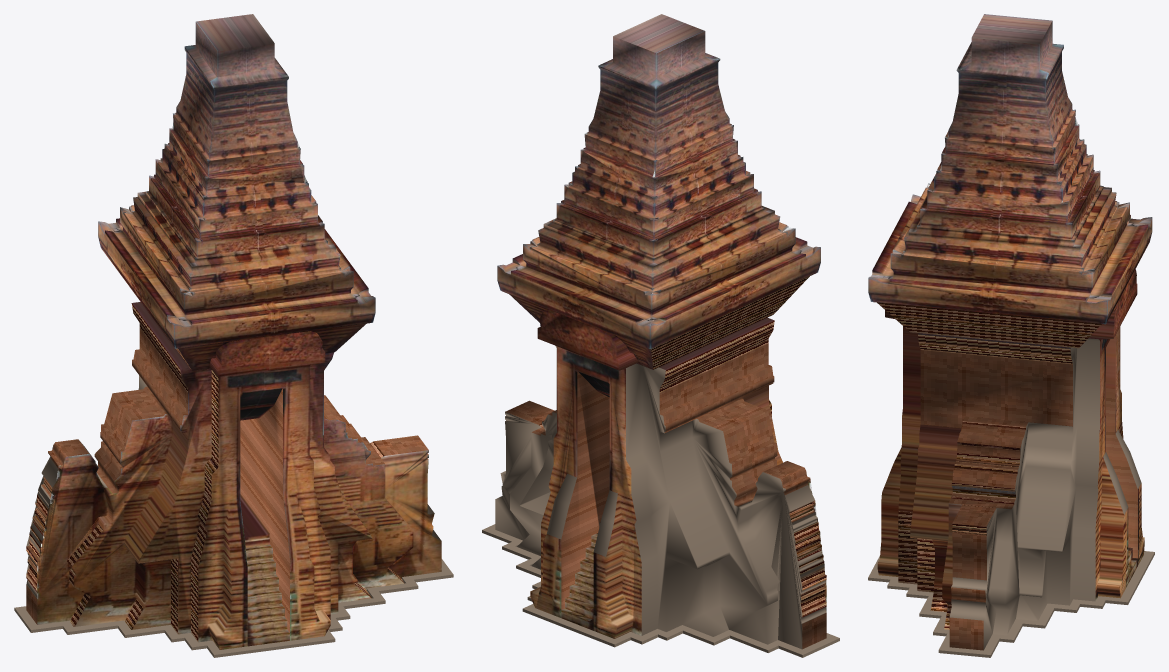
The model's file is Bajang_Ratu.fbx.
The picture shows the model from 3 angles, left to right: view 1: azimuth 30°, elevation 25°; view 2: azimuth 150°, elevation 25°; view 3: azimuth 270°, elevation 25°; orthographic projection. The views are drawn at different scales.
Parts seen in each view (by area): view 1: box, Group1; view 2: box, Group1; view 3: box, Group1.
Boxes of the visible parts, box(x1,y1,x2,y2) form: box: box(14, 302, 453, 657); Group1: box(98, 14, 375, 370); box: box(482, 310, 839, 657); Group1: box(497, 14, 820, 369); box: box(868, 269, 1154, 657); Group1: box(868, 14, 1152, 348).
Size of the model in its own units: 11532 by 16079 by 7746.
